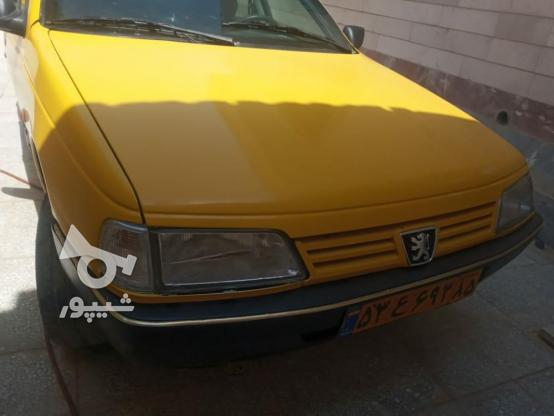car: (335, 267, 483, 342)
